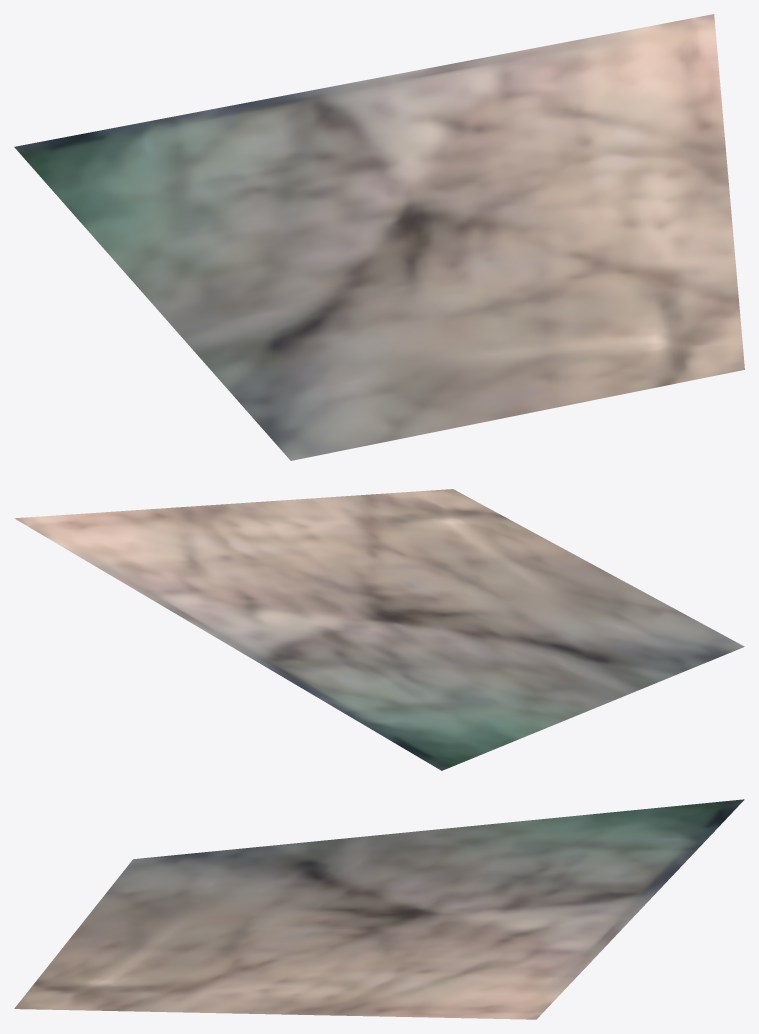
File: Ridge_4_2_Top.gltf
3 views of the same model, one above another, from view 1: azimuth 30°, elevation 25°; view 2: azimuth 150°, elevation 25°; view 3: azimuth 270°, elevation 25° (orthographic). The views are drawn at different scales.
Parts seen in each view (by area): view 1: Ridge_4_2_Top; view 2: Ridge_4_2_Top; view 3: Ridge_4_2_Top.
Part boxes in pixels (x1,y1,x2,y2): Ridge_4_2_Top: (14,14,744,460); Ridge_4_2_Top: (14,489,744,770); Ridge_4_2_Top: (14,799,744,1019).
Bounding box in the file's own units: 22.09 × 4.82 × 22.64.
Materials: 1 (1 with a texture image).
